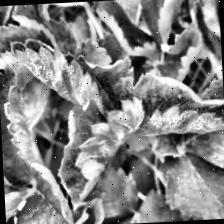Powdery Mildew Leaf: (53, 95, 149, 208), (6, 33, 118, 122), (112, 68, 224, 138), (6, 158, 86, 224), (90, 0, 157, 60), (153, 26, 204, 83), (0, 20, 55, 68), (188, 0, 221, 58), (206, 50, 223, 82), (73, 206, 95, 224)
